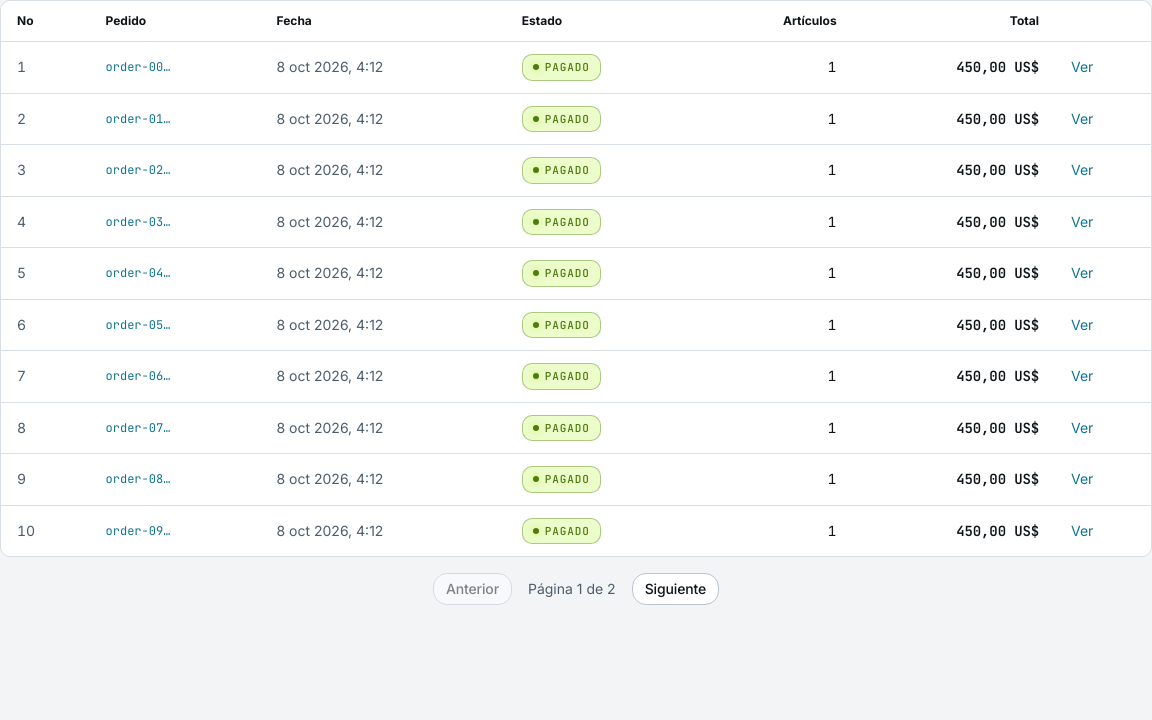
Test case: AccountOrdersView pagination › advances to the remaining orders on the second page
The width and height of the screenshot is (1152, 720).
Click the button "Siguiente". click: click(675, 589)
box: [632,573,719,605]
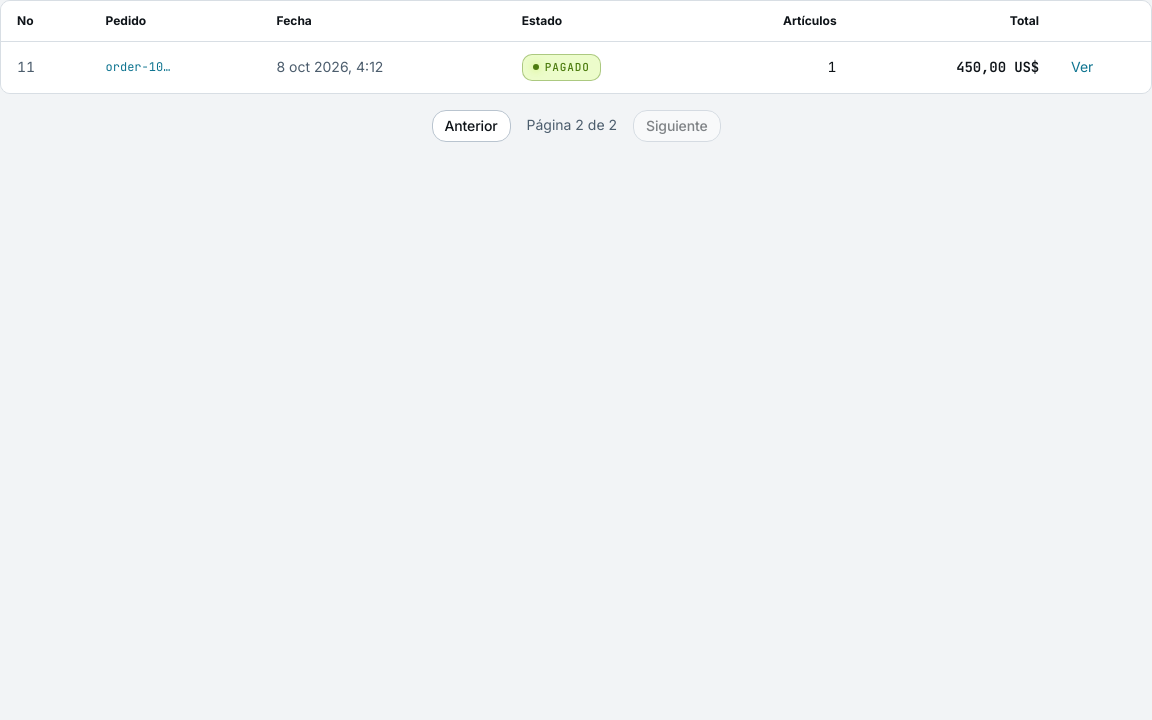
Now the text "Página 2 de 2" is shown, box [526,114,617,137]
